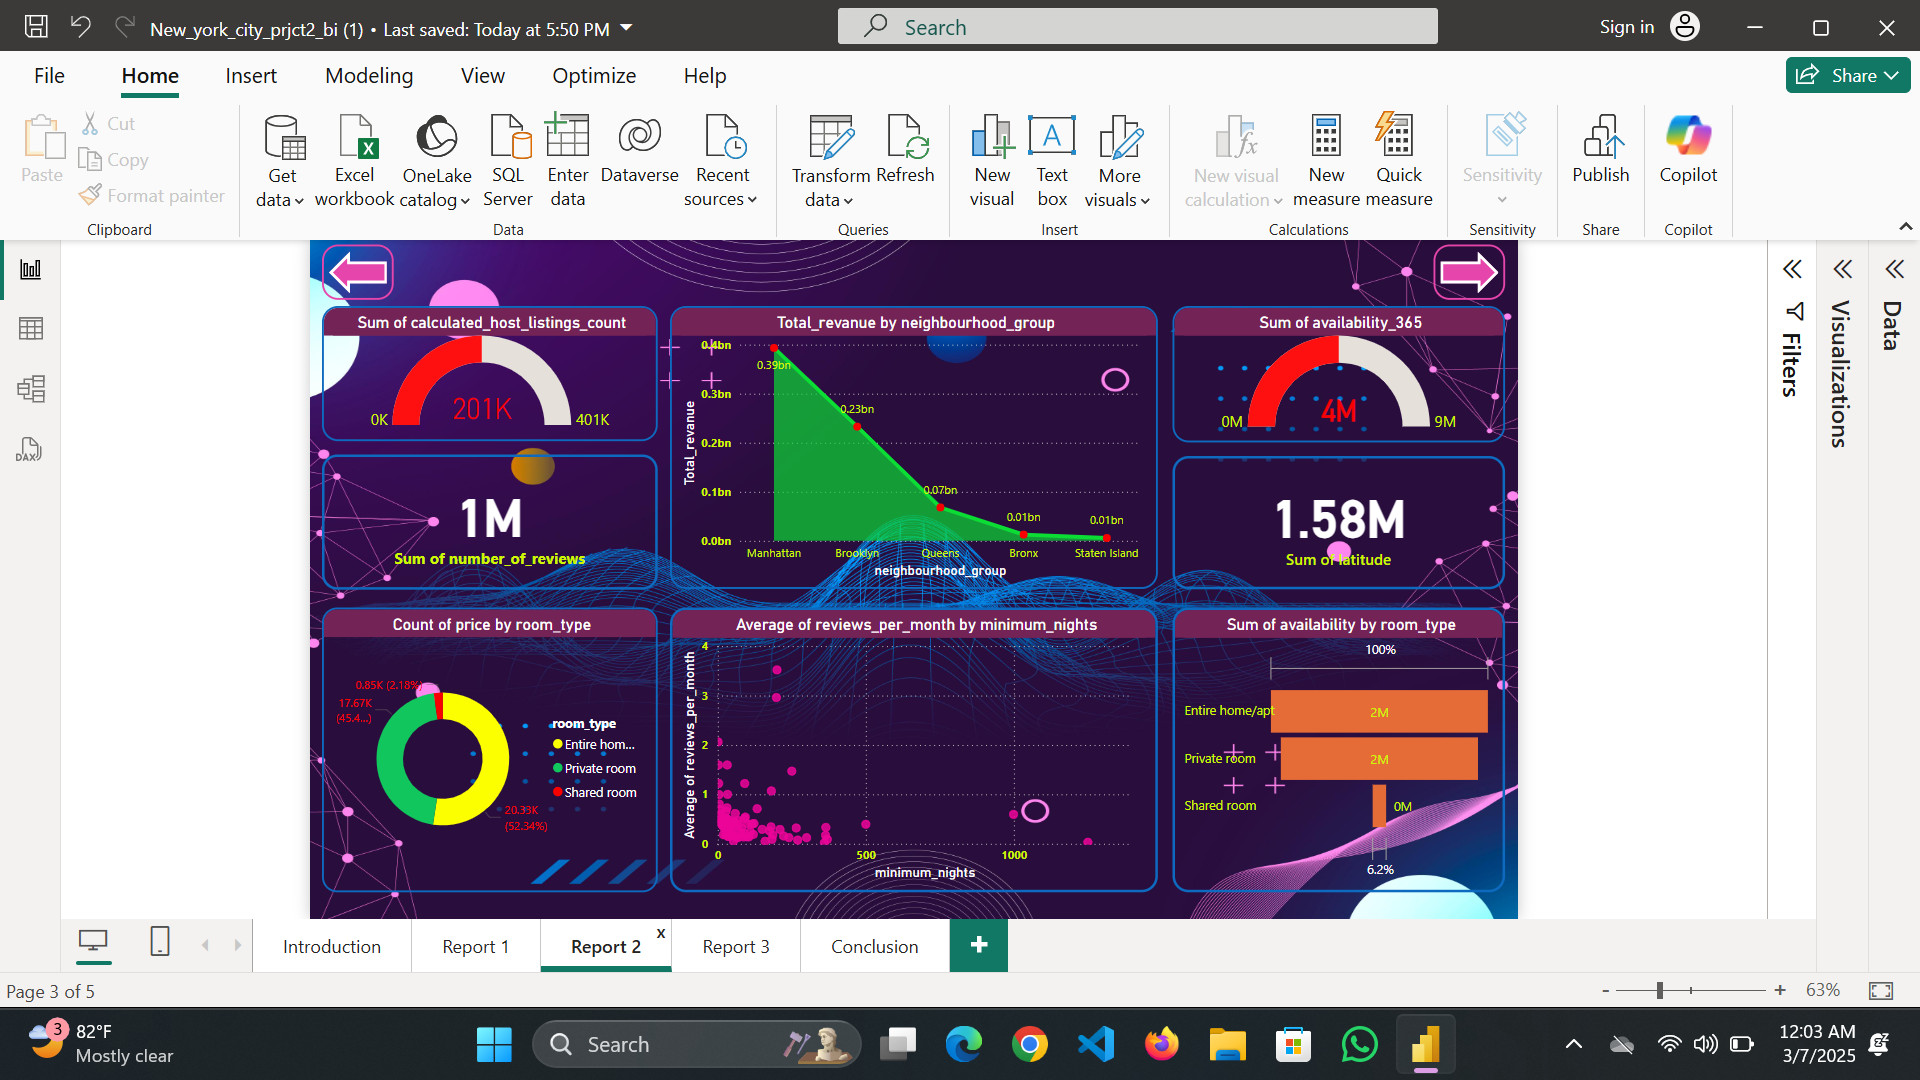

The dashboard page shown, as its layout file describes it:
{"tool":"powerbi","page":{"name":"Report 2","canvas":[1280,720],"ordinal":2},"visuals":[{"type":"areaChart","fields":{"Category":["AB_NYC_2019.neighbourhood_group"],"Y":["AB_NYC_2019.Total_revanue"]},"box":[381.2,69.9,517.5,300.2],"z":0},{"type":"scatterChart","fields":{"Y":["Avg(AB_NYC_2019.reviews_per_month)"],"X":["AB_NYC_2019.minimum_nights"]},"box":[381.2,389.9,517.5,301.9],"z":1000},{"type":"funnel","title":"Sum of availability by room_type","fields":{"Category":["AB_NYC_2019.room_type"],"Y":["Sum(AB_NYC_2019.availability_365)"]},"box":[915.1,389.9,352.8,301.9],"z":2000},{"type":"donutChart","fields":{"Category":["AB_NYC_2019.room_type"],"Y":["CountNonNull(AB_NYC_2019.price)"]},"box":[12.1,389.9,356.2,301.9],"z":3000},{"type":"gauge","fields":{"Y":["Sum(AB_NYC_2019.calculated_host_listings_count)"]},"box":[12.1,69.9,356.2,143.2],"z":4000},{"type":"card","fields":{"Values":["Sum(AB_NYC_2019.number_of_reviews)"]},"box":[12.1,226.8,356.2,143.2],"z":5000},{"type":"gauge","fields":{"Y":["Sum(AB_NYC_2019.availability_365)"]},"box":[914.3,69.9,352.8,144.9],"z":6000},{"type":"card","fields":{"Values":["Sum(AB_NYC_2019.latitude)"]},"box":[914.3,228.6,352.8,141.5],"z":7000},{"type":"shape","box":[12.1,5.2,75.9,58.7],"z":8000},{"type":"shape","box":[1192,5.2,75.9,58.7],"z":9000}]}

Visuals, with their boxes on the page's 1280x720 design canvas (x1, y1, x2, y2). These are canvas units, not pixel positions in the 1920x1080 screenshot, which may show the page scaled, cropped or inside an application window:
areaChart - AB_NYC_2019.neighbourhood_group x AB_NYC_2019.Total_revanue: x1=381, y1=70, x2=899, y2=370
scatterChart - Avg(AB_NYC_2019.reviews_per_month) x AB_NYC_2019.minimum_nights: x1=381, y1=390, x2=899, y2=692
"Sum of availability by room_type" funnel: x1=915, y1=390, x2=1268, y2=692
donutChart - AB_NYC_2019.room_type x CountNonNull(AB_NYC_2019.price): x1=12, y1=390, x2=368, y2=692
gauge - Sum(AB_NYC_2019.calculated_host_listings_count): x1=12, y1=70, x2=368, y2=213
card - Sum(AB_NYC_2019.number_of_reviews): x1=12, y1=227, x2=368, y2=370
gauge - Sum(AB_NYC_2019.availability_365): x1=914, y1=70, x2=1267, y2=215
card - Sum(AB_NYC_2019.latitude): x1=914, y1=229, x2=1267, y2=370
shape: x1=12, y1=5, x2=88, y2=64
shape: x1=1192, y1=5, x2=1268, y2=64
